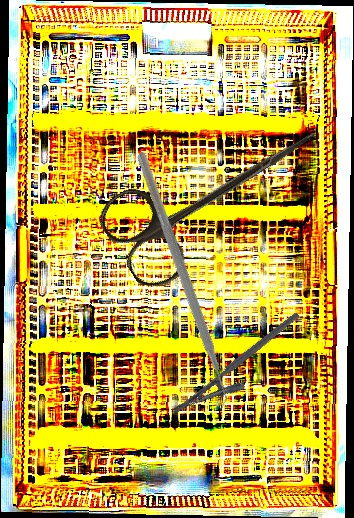Chopper: (40, 151, 316, 418)
Iris Scissors: (91, 86, 340, 298)
Needle Holder: (170, 311, 314, 432)
